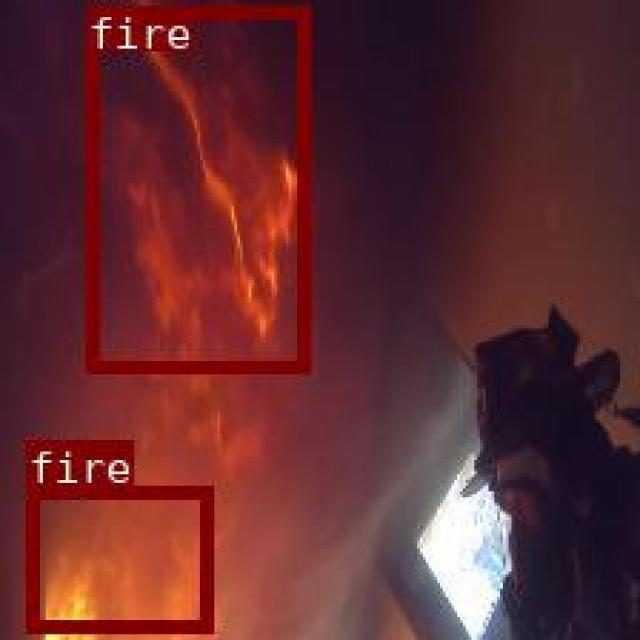fire: (84, 3, 307, 369), (25, 484, 209, 629)
